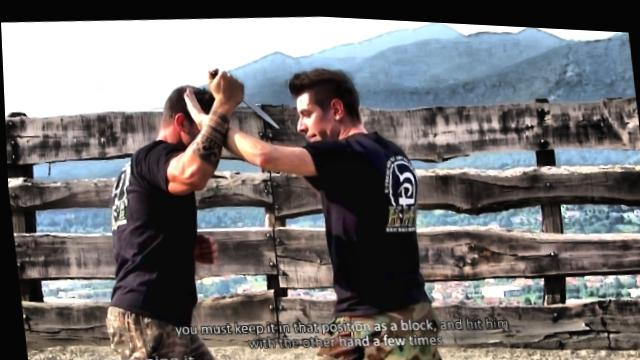knife: (201, 57, 281, 133)
